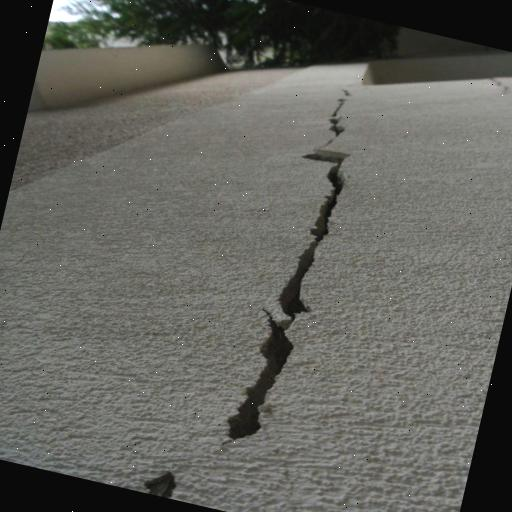spalling: (211, 115, 354, 454)
